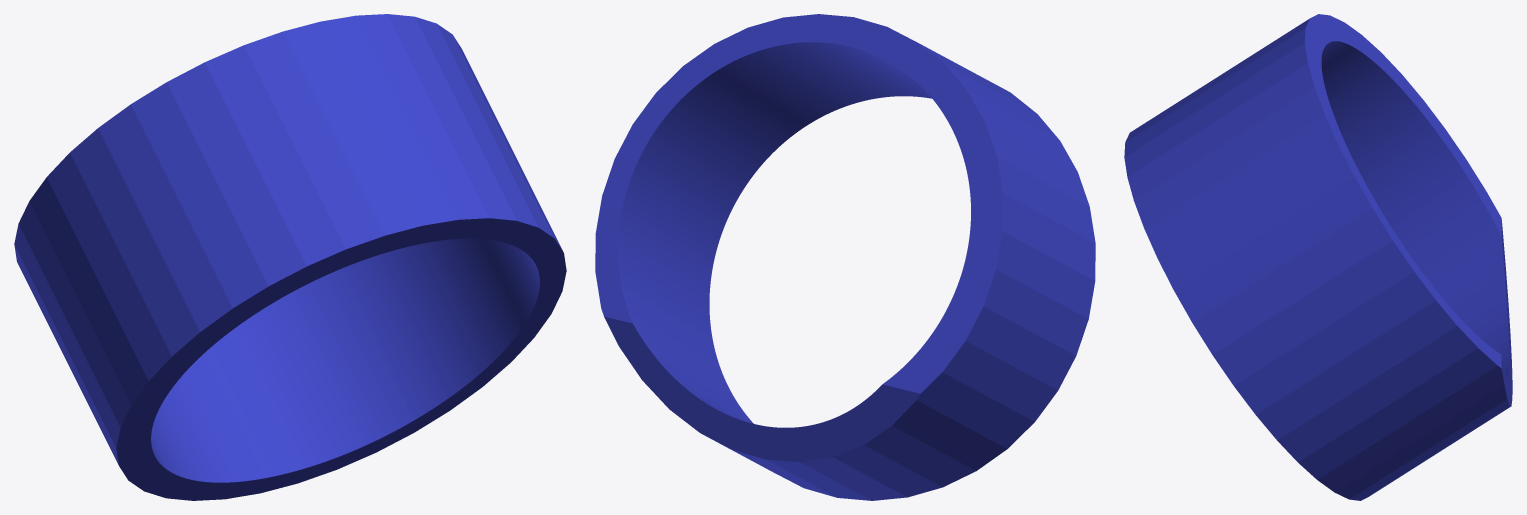
The model's file is neck.glb.
3 renders of one model, left to right at view 1: azimuth 30°, elevation 25°; view 2: azimuth 150°, elevation 25°; view 3: azimuth 270°, elevation 25°, orthographic. The views are drawn at different scales.
Size of the model in its own units: 228 by 253 by 203.
